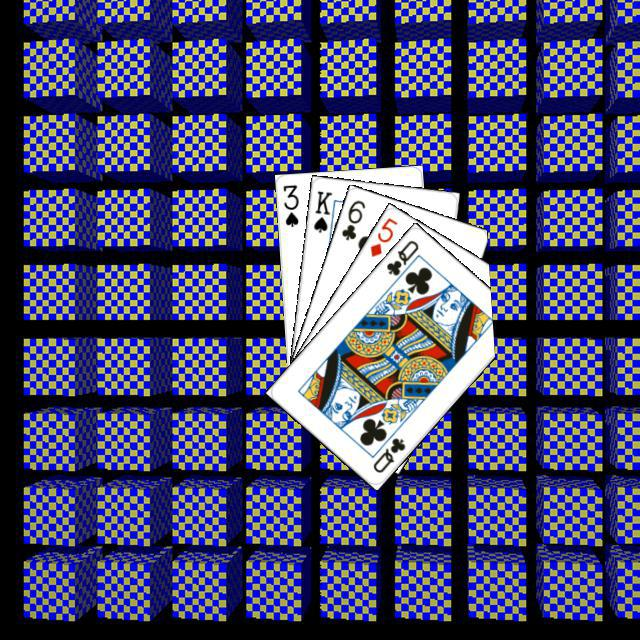3s: (278, 180, 300, 229)
5d: (365, 213, 399, 259)
6c: (336, 195, 367, 242)
Ks: (309, 186, 334, 234)
Qc: (381, 235, 423, 285), (368, 433, 407, 475)
